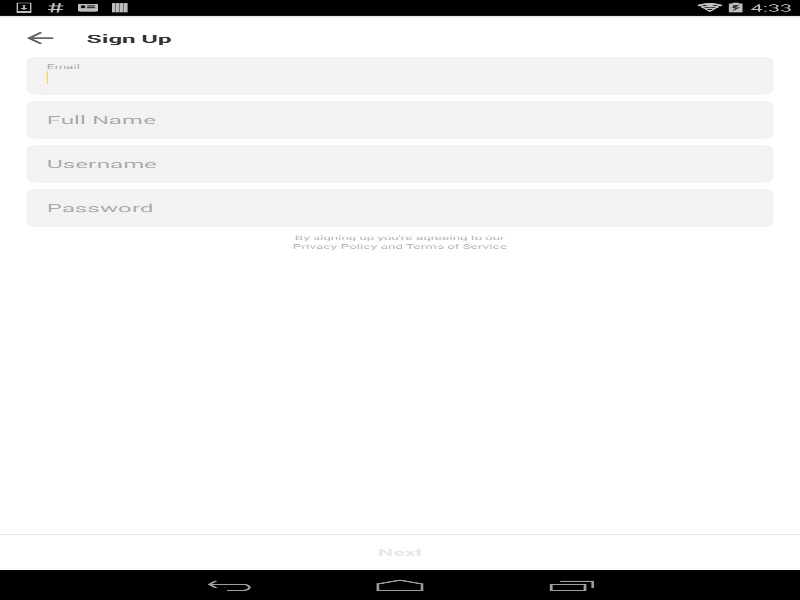Button: (0, 534, 800, 570)
Input: (46, 68, 753, 84), (46, 112, 753, 128), (46, 156, 753, 172), (46, 200, 753, 216)
